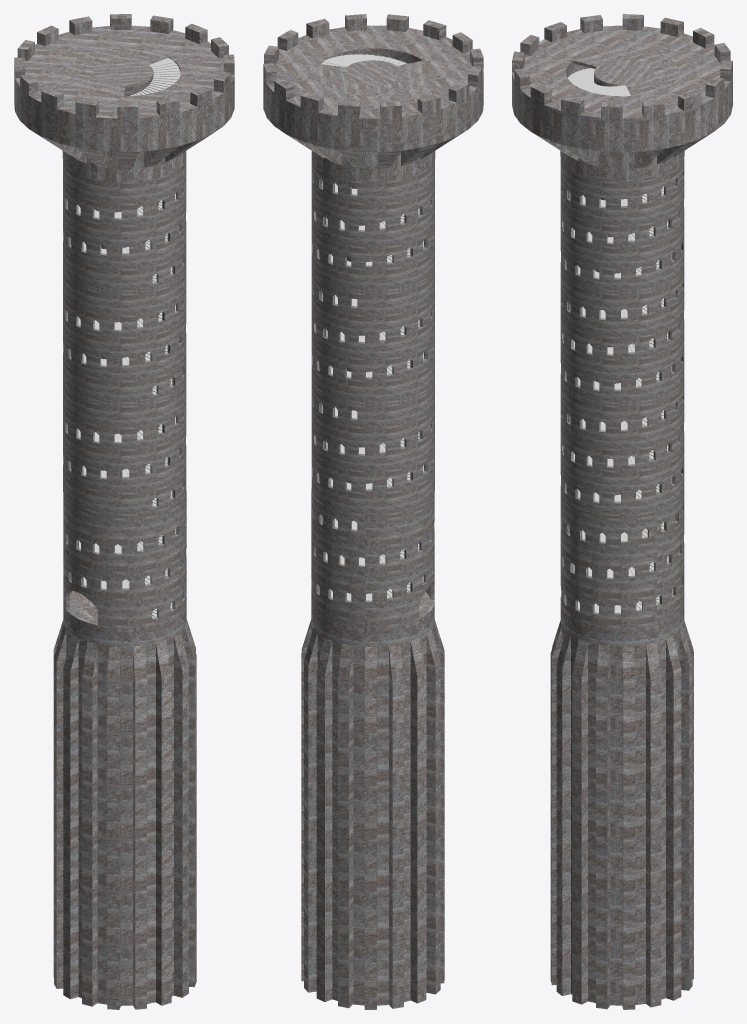
File: BigTower.fbx
3 views of the same model, side by side, from view 1: azimuth 30°, elevation 25°; view 2: azimuth 150°, elevation 25°; view 3: azimuth 270°, elevation 25° (orthographic).
Visible parts, largest first — view 1: Cylinder.001, Cylinder.007, Cylinder.002, Cylinder.005, Cylinder.009, Cylinder, Cylinder.012, Cylinder.010, Cube.007, Cube.001, Cube.002, Cube.005; view 2: Cylinder.001, Cylinder.007, Cylinder.002, Cylinder.005, Cylinder.009, Cylinder, Cylinder.012, Cylinder.010, Cube.007, Cube.002; view 3: Cylinder.001, Cylinder.007, Cylinder, Cylinder.005, Cylinder.002, Cylinder.009, Cylinder.012, Cylinder.010, Cube.007, Cube.001, Cube.005, Cube.002 (+1 smaller).
Boxes of the visible parts, x1,y1,x2,y2 form: Cylinder.001: (53, 591, 196, 1009); Cylinder.007: (14, 14, 234, 182); Cylinder.002: (63, 380, 186, 516); Cylinder.005: (63, 268, 186, 403); Cylinder.009: (63, 159, 186, 292); Cylinder: (63, 490, 186, 627); Cylinder.012: (68, 48, 167, 96); Cylinder.010: (93, 59, 153, 580); Cube.007: (130, 58, 180, 95); Cube.001: (78, 417, 175, 506); Cube.002: (79, 528, 175, 618); Cube.005: (78, 305, 175, 394); Cylinder.001: (301, 592, 444, 1009); Cylinder.007: (263, 14, 483, 182); Cylinder.002: (311, 379, 434, 516); Cylinder.005: (311, 267, 434, 403); Cylinder.009: (311, 159, 434, 292); Cylinder: (311, 489, 434, 627); Cylinder.012: (317, 60, 429, 96); Cylinder.010: (343, 60, 402, 593); Cube.007: (321, 54, 406, 67); Cube.002: (322, 517, 423, 600); Cylinder.001: (550, 602, 693, 1009); Cylinder.007: (512, 14, 732, 182); Cylinder: (560, 490, 684, 627); Cylinder.005: (560, 266, 684, 403); Cylinder.002: (560, 378, 684, 515); Cylinder.009: (560, 158, 684, 291); Cylinder.012: (573, 48, 678, 95); Cylinder.010: (594, 59, 653, 605); Cube.007: (568, 68, 630, 96); Cube.001: (570, 410, 672, 501); Cube.005: (570, 266, 672, 389); Cube.002: (573, 521, 672, 613).
Size of the model in its own units: 2830 by 12991 by 2830.
